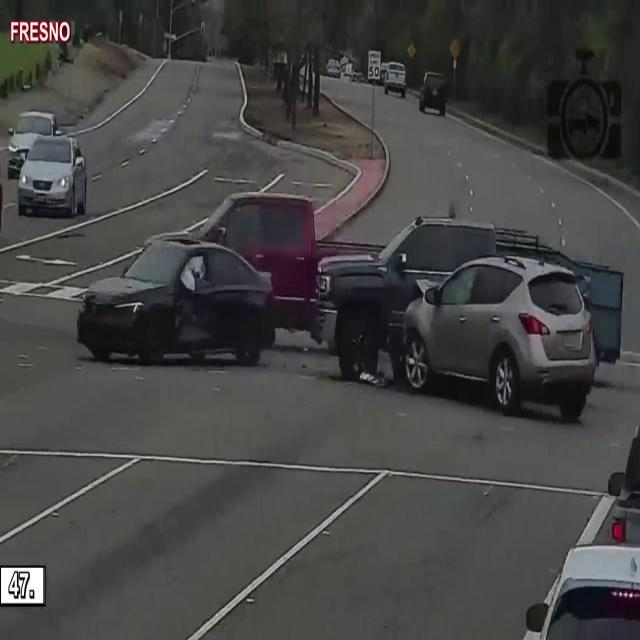accident: (309, 192, 611, 432), (76, 222, 290, 402)
